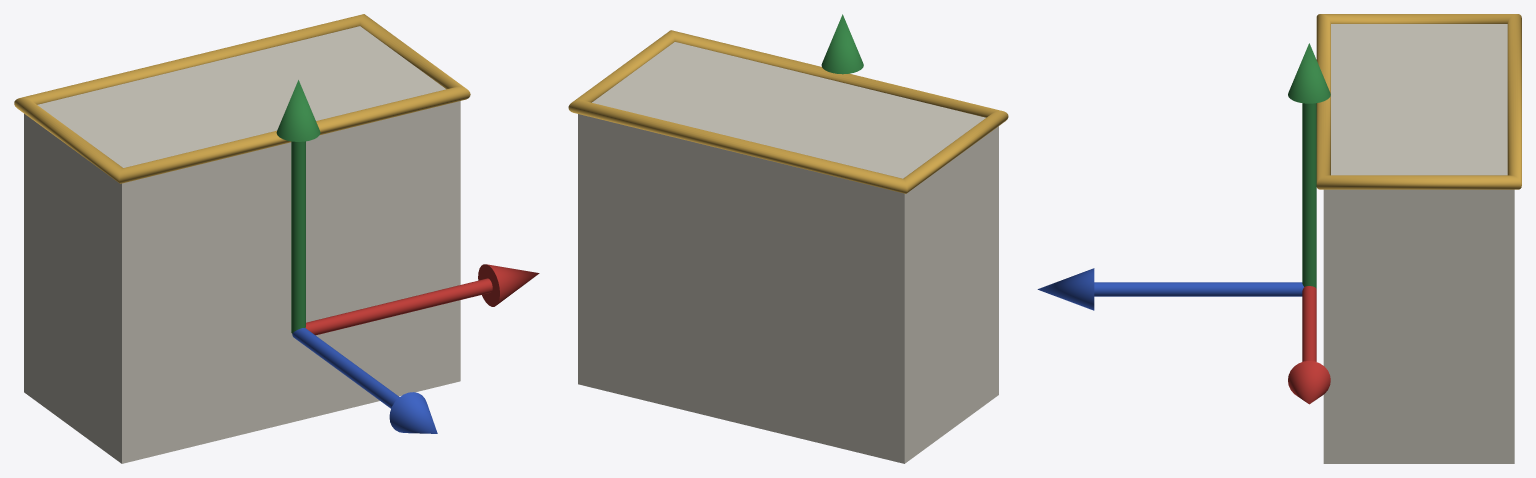
File: frames_axes.glb
The picture shows the model from 3 angles, left to right: view 1: azimuth 30°, elevation 25°; view 2: azimuth 150°, elevation 25°; view 3: azimuth 270°, elevation 25°; orthographic projection. The views are drawn at different scales.
Parts seen in each view (by area): view 1: block, rim, Y, X, Z; view 2: block, rim, Y; view 3: block, rim, Z, Y, X.
Part boxes in pixels (x1,y1,x2,y2): block: (24,26,460,463); rim: (14,14,470,183); Y: (276,80,320,333); X: (305,264,539,335); Z: (292,328,437,433); block: (578,42,998,463); rim: (568,30,1008,193); Y: (821,14,863,74); block: (1323,24,1514,463); rim: (1316,14,1521,189); Z: (1037,268,1303,310); Y: (1288,43,1330,288); X: (1288,286,1330,404).
Size of the model in its own units: 0.0985 by 0.0787 by 0.1015.
